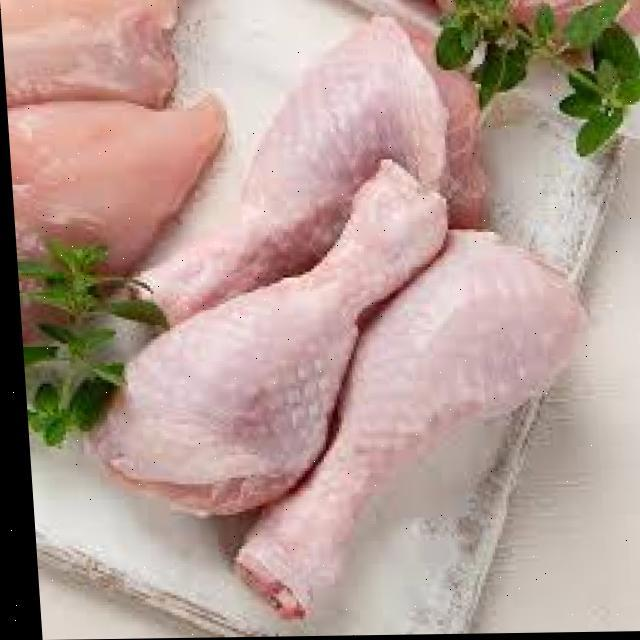breast: (6, 100, 226, 305), (0, 0, 194, 108)
leg: (222, 222, 591, 626), (104, 180, 454, 510), (112, 17, 484, 314)
